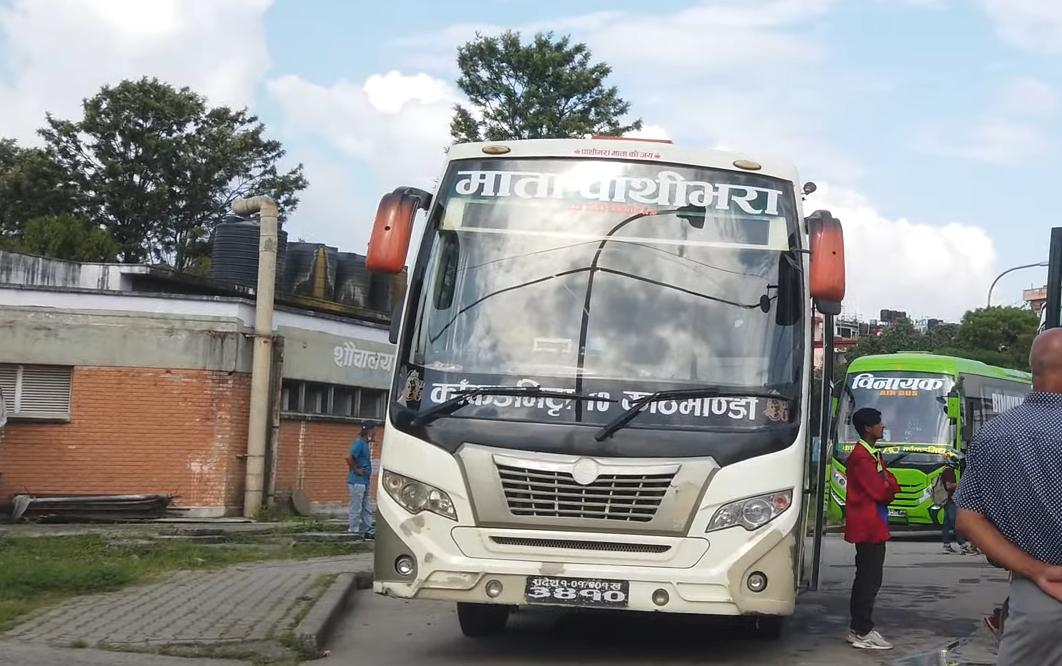bus: (373, 93, 845, 632), (835, 343, 1046, 535)
